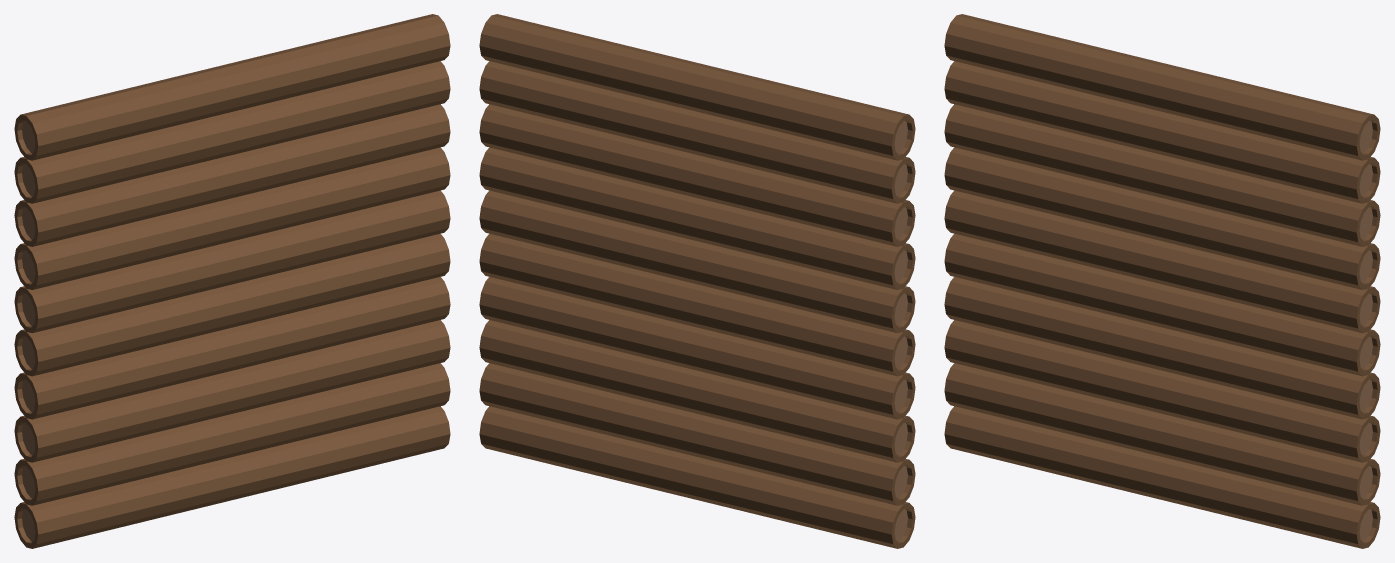
The model's file is mesh_wood_wall.fbx.
The picture shows the model from 3 angles, left to right: view 1: azimuth 30°, elevation 25°; view 2: azimuth 150°, elevation 25°; view 3: azimuth 330°, elevation 25°; orthographic projection.
Parts seen in each view (by area): view 1: mesh_wood_wall; view 2: mesh_wood_wall; view 3: mesh_wood_wall.
Part boxes in pixels (<box>): mesh_wood_wall: <box>14,14,450,548</box>; mesh_wood_wall: <box>479,14,915,548</box>; mesh_wood_wall: <box>944,14,1380,548</box>.
Bounding box in the file's own units: 2 × 2 × 0.2002.
